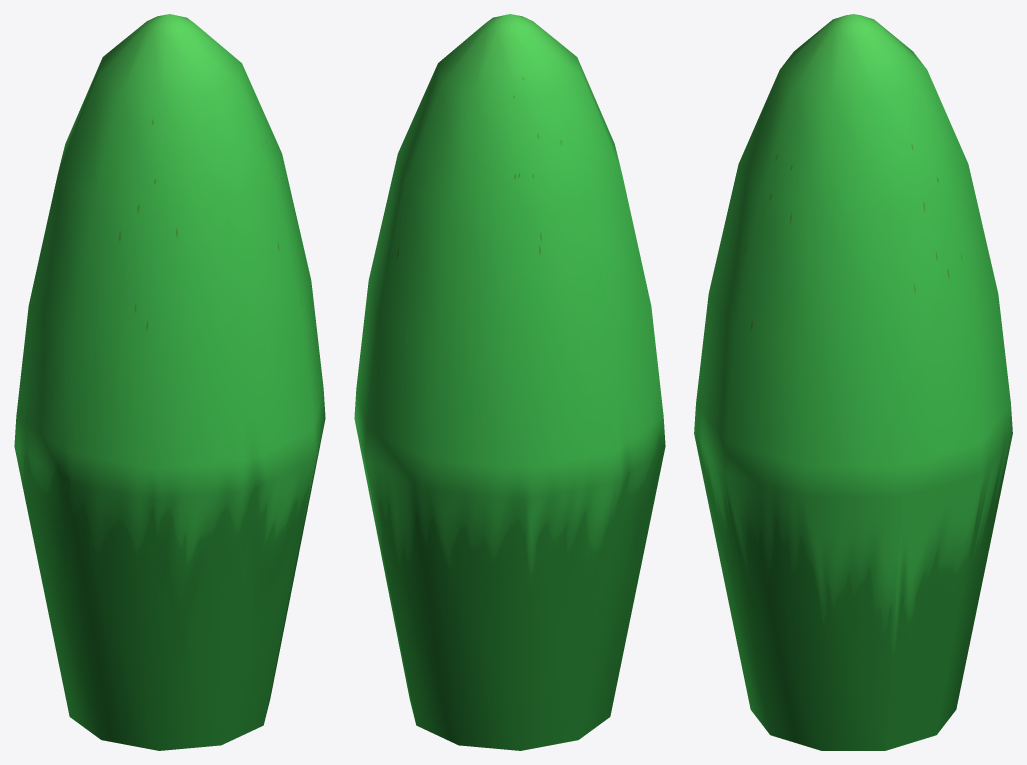
Rendered from french_bushes_03.fbx.
The picture shows the model from 3 angles, left to right: view 1: azimuth 30°, elevation 25°; view 2: azimuth 150°, elevation 25°; view 3: azimuth 270°, elevation 25°; orthographic projection.
Visible parts, largest first — view 1: french_trees:pSphere240; view 2: french_trees:pSphere240; view 3: french_trees:pSphere240.
Boxes of the visible parts, <box> form: french_trees:pSphere240: <box>14,14,325,750</box>; french_trees:pSphere240: <box>354,14,665,750</box>; french_trees:pSphere240: <box>694,14,1012,750</box>.
Size of the model in its own units: 0.5989 by 1.52 by 0.6297.
